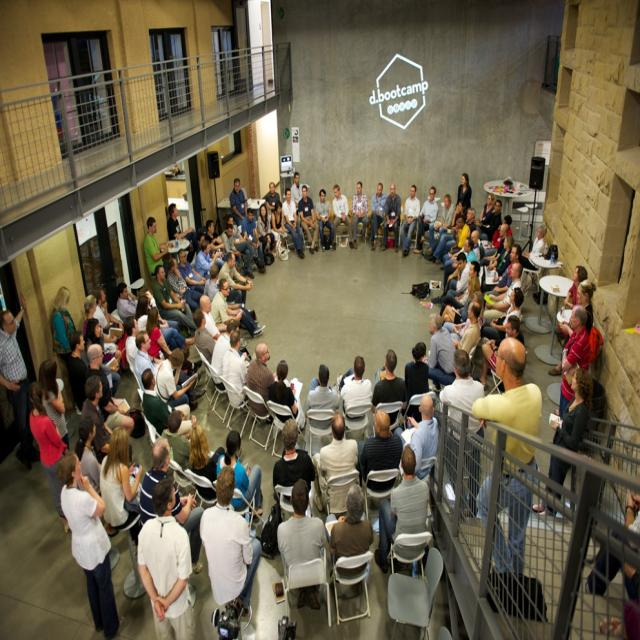body: (470, 334, 544, 582), (56, 451, 125, 639), (135, 474, 199, 639), (199, 462, 263, 622), (531, 366, 595, 522), (137, 434, 206, 576), (28, 380, 80, 535), (439, 348, 485, 520), (373, 443, 432, 577), (0, 289, 41, 473), (277, 477, 328, 612), (584, 490, 640, 600), (82, 341, 136, 452), (98, 424, 143, 548), (310, 410, 360, 520), (134, 329, 207, 403), (328, 481, 375, 589), (50, 285, 84, 416), (354, 408, 405, 494), (216, 427, 264, 518), (558, 304, 592, 429), (393, 393, 440, 481), (140, 368, 194, 442), (271, 417, 315, 503), (134, 293, 197, 351), (37, 357, 73, 458), (476, 314, 525, 386), (370, 346, 409, 434), (152, 264, 198, 338), (83, 316, 122, 399), (79, 373, 113, 468), (188, 423, 227, 502), (430, 260, 482, 319), (82, 293, 124, 366), (421, 311, 457, 396), (267, 359, 307, 435), (426, 198, 466, 270), (224, 212, 265, 280), (210, 319, 248, 392), (482, 261, 524, 327), (160, 408, 198, 478), (479, 285, 526, 341), (482, 244, 523, 308), (153, 347, 196, 408), (246, 341, 276, 427), (443, 229, 482, 295), (335, 353, 373, 420), (74, 414, 103, 501), (557, 278, 597, 340), (304, 362, 339, 432), (440, 289, 486, 341), (218, 250, 255, 313), (441, 234, 478, 296), (221, 328, 249, 409), (123, 314, 163, 370), (423, 192, 456, 259), (442, 300, 481, 356), (404, 339, 430, 423), (166, 256, 204, 313), (166, 202, 199, 266), (441, 273, 481, 325), (66, 328, 90, 413), (439, 251, 472, 312), (412, 184, 440, 254), (280, 186, 306, 260), (210, 276, 244, 332), (597, 598, 640, 640), (177, 248, 208, 306), (439, 214, 470, 272), (517, 222, 548, 280), (143, 215, 170, 281), (192, 306, 217, 376), (240, 207, 266, 274), (92, 286, 126, 337), (145, 306, 174, 364), (297, 183, 319, 255), (380, 181, 402, 253), (400, 183, 421, 258), (479, 234, 515, 277), (478, 222, 510, 270), (332, 182, 354, 251), (220, 223, 247, 277), (350, 180, 370, 250), (314, 187, 335, 253), (473, 198, 504, 242), (370, 180, 388, 252), (194, 239, 223, 281), (564, 265, 589, 312), (256, 202, 276, 258), (199, 293, 221, 342), (270, 198, 288, 257), (229, 176, 249, 229), (264, 181, 280, 236), (116, 281, 138, 319), (204, 218, 226, 255), (453, 172, 473, 210), (203, 262, 221, 302), (143, 286, 163, 322), (492, 214, 514, 242), (290, 171, 303, 217), (478, 191, 496, 223), (82, 242, 101, 270), (196, 233, 214, 259), (465, 206, 477, 238)
